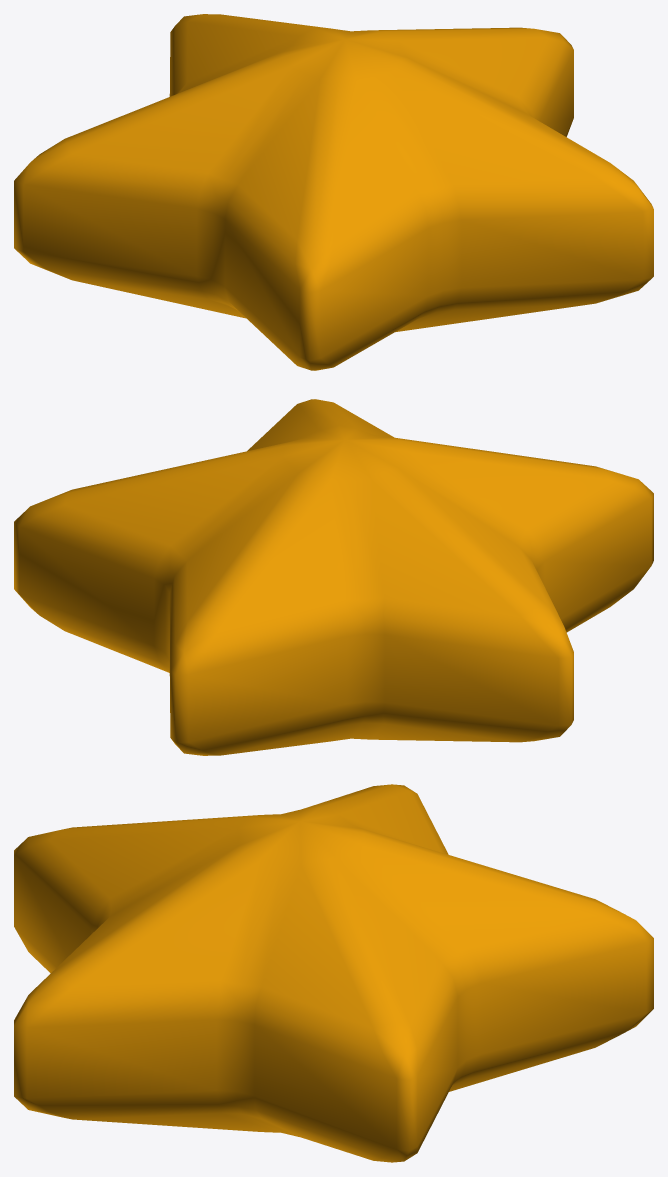
Rendered from etoile_orange.glb.
The picture shows the model from 3 angles, top to bottom: view 1: azimuth 30°, elevation 25°; view 2: azimuth 150°, elevation 25°; view 3: azimuth 270°, elevation 25°; orthographic projection. The views are drawn at different scales.
Visible parts, largest first — view 1: Cylinder.002; view 2: Cylinder.002; view 3: Cylinder.002.
Boxes of the visible parts, <box> form: Cylinder.002: <box>14,14,653,370</box>; Cylinder.002: <box>14,399,653,755</box>; Cylinder.002: <box>14,784,653,1162</box>.
Size of the model in its own units: 1.84 by 0.9202 by 1.75.
